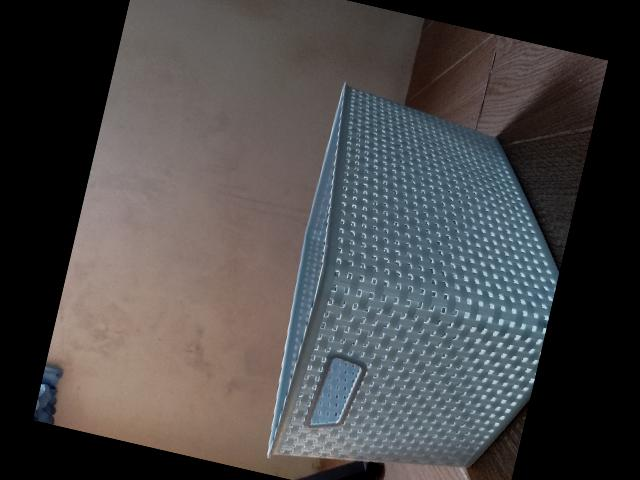cart: (267, 81, 559, 466)
